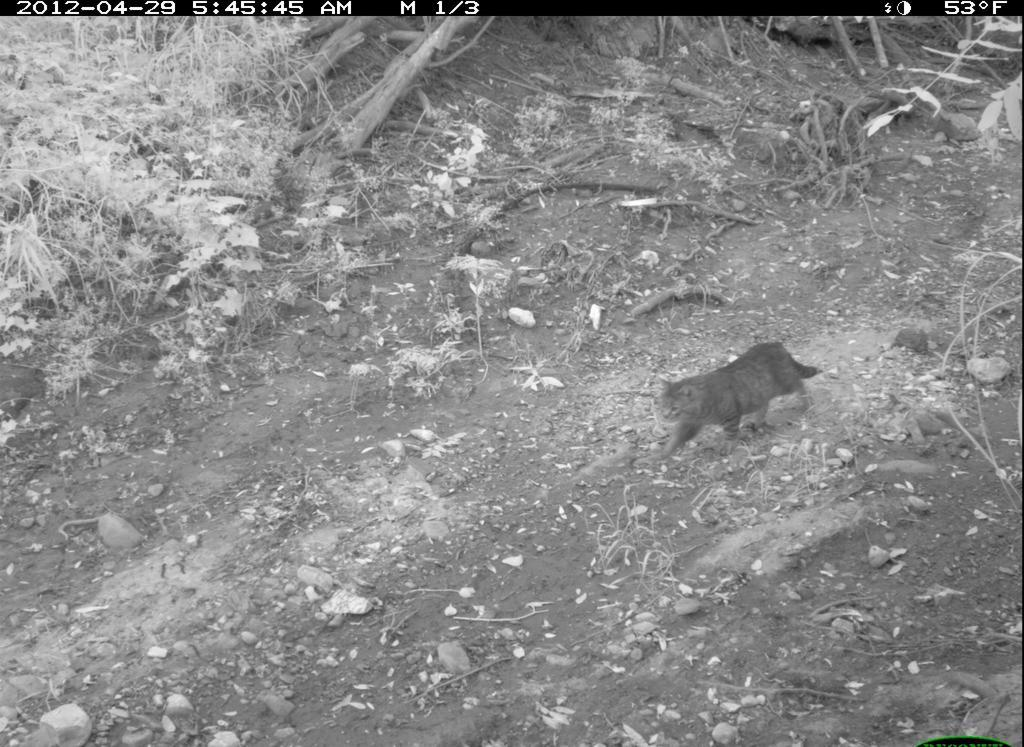cat: (647, 333, 830, 477)
